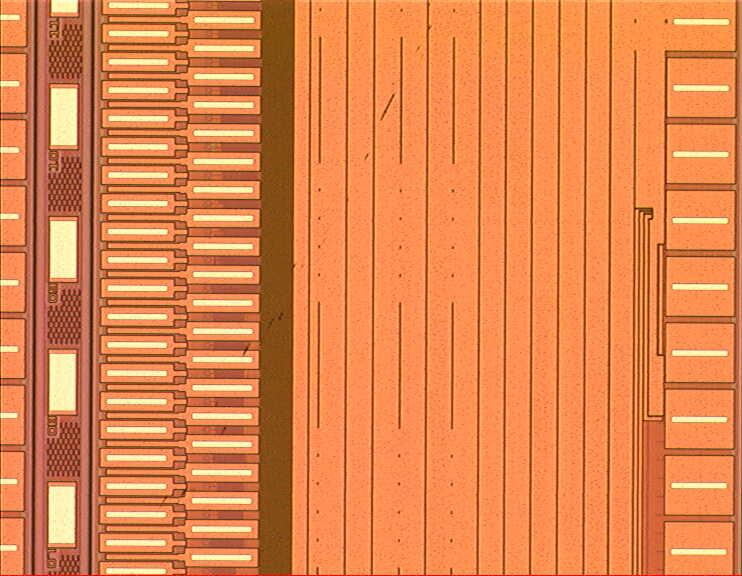SCRATCH: (213, 22, 439, 450)
